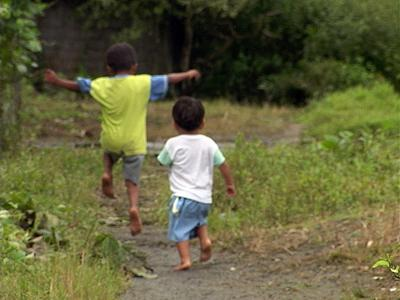person: (44, 41, 200, 237)
